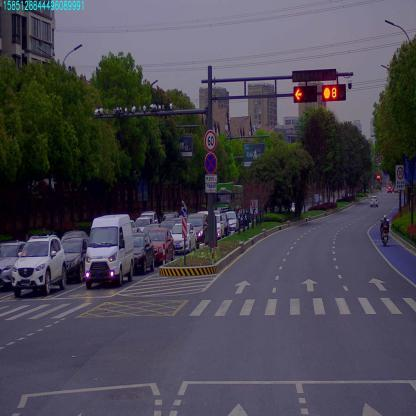traffic-light: (321, 85, 347, 103), (294, 87, 316, 99)
